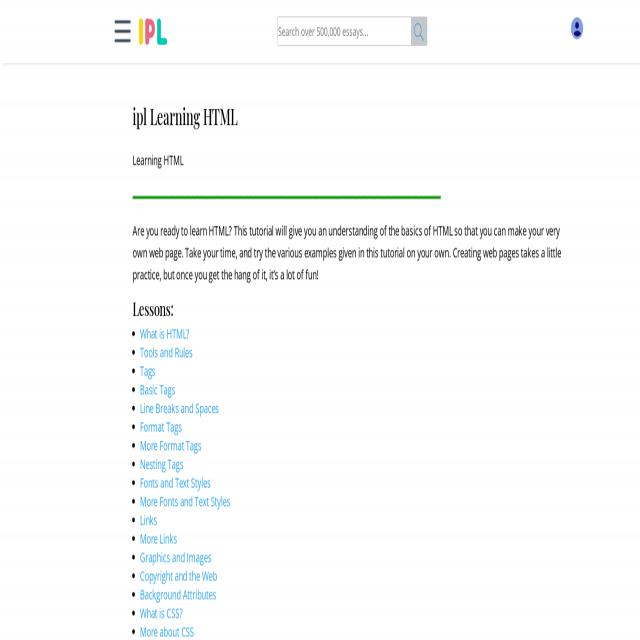button: (136, 14, 172, 53), (110, 14, 135, 50), (411, 17, 427, 45), (571, 18, 583, 39)
field: (277, 17, 411, 46)
